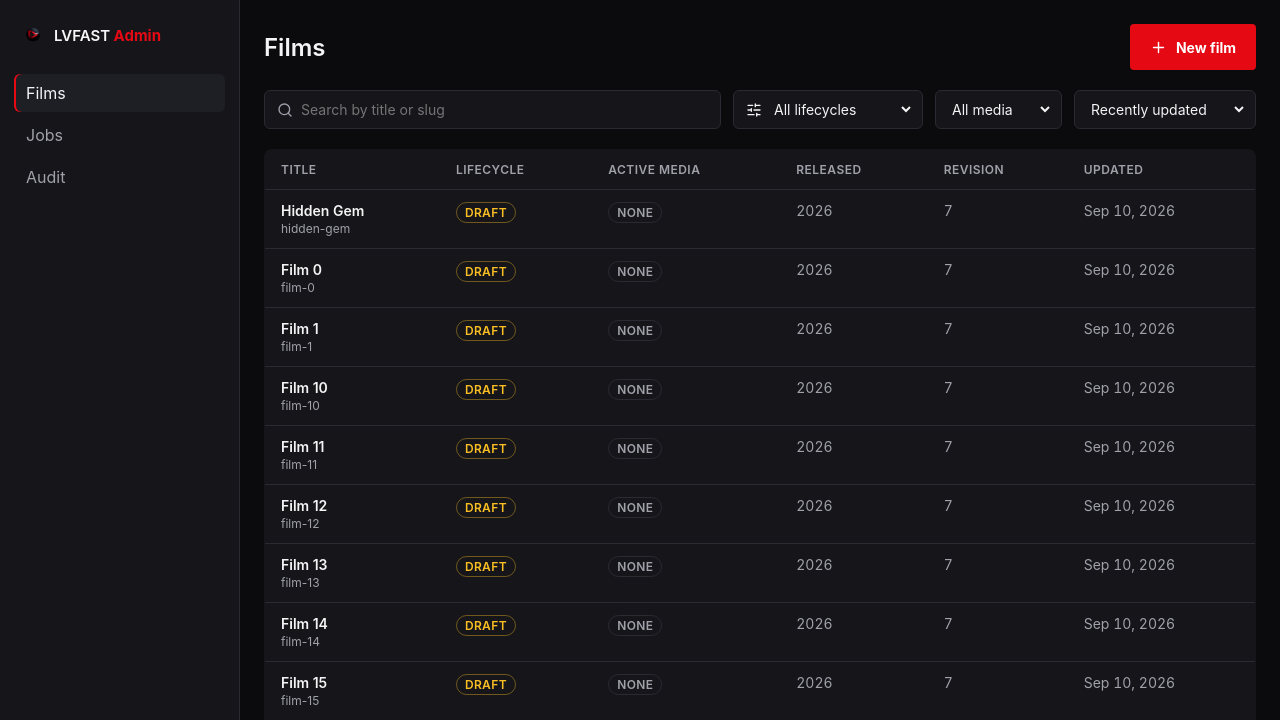
Film library › searches across the whole catalog, not just the current page
expect the link "Film 0 film-0" is shown: met, box [281,261,322,295]
Type "hidden" into the search field named "search films" at point(504, 110), box [301,92,708,127]
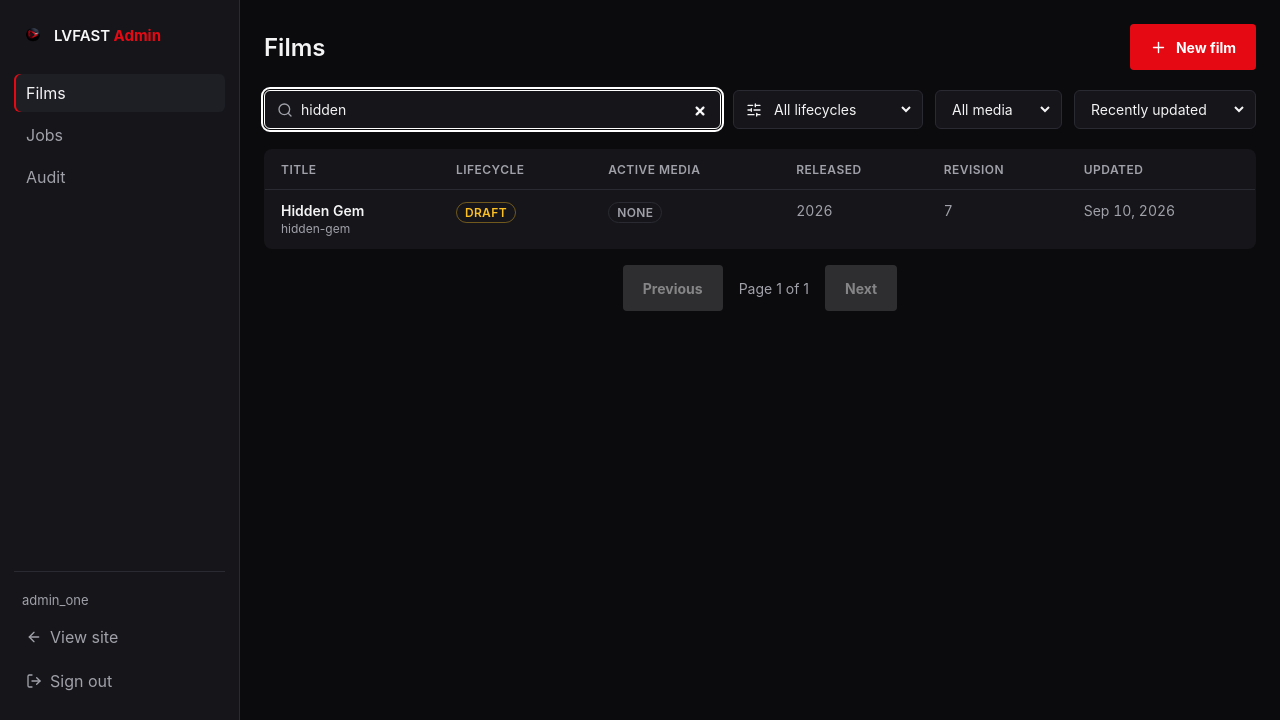
expect the link "Hidden Gem hidden-gem" is shown: met, box [281,202,364,236]
expect the link "Film 0" is gone: met
